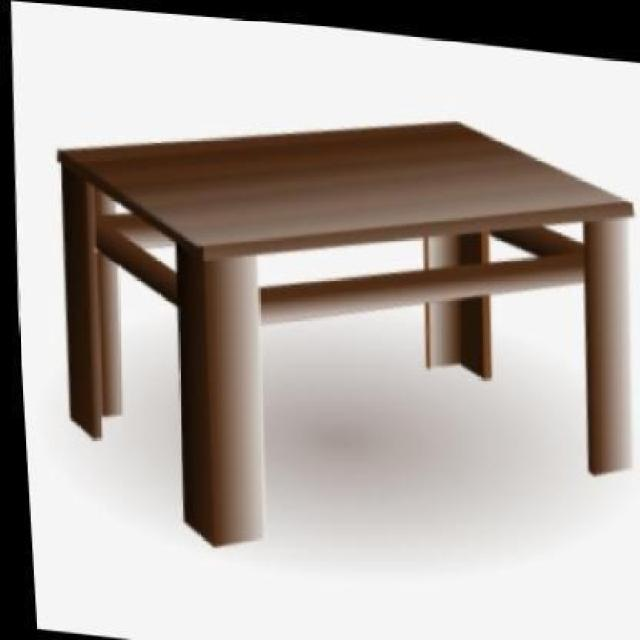tables: (55, 118, 636, 548)
